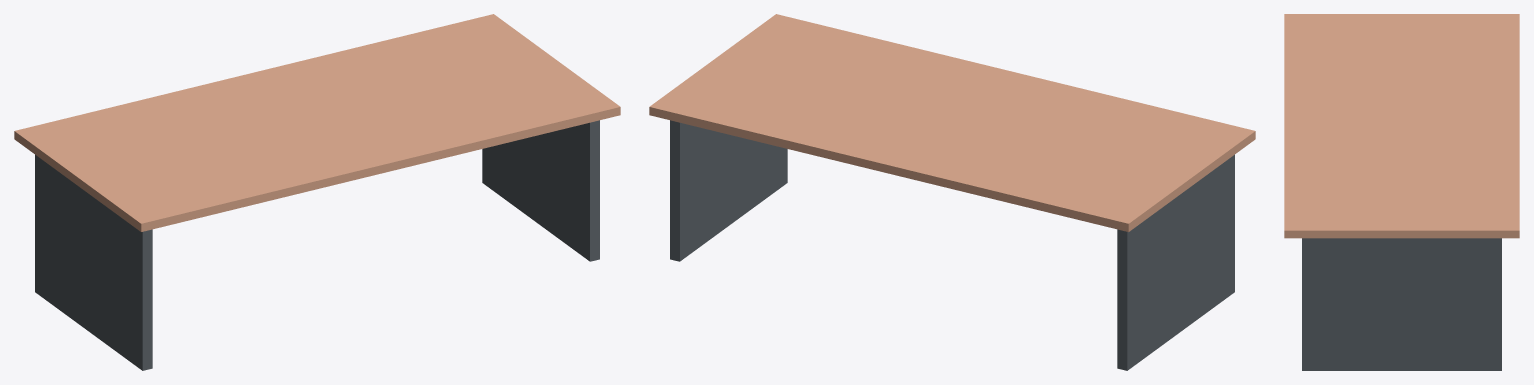
Rendered from meeting_rooms___private_spaces_catalog_06.glb.
3 renders of one model, left to right at view 1: azimuth 30°, elevation 25°; view 2: azimuth 150°, elevation 25°; view 3: azimuth 270°, elevation 25°, orthographic. The views are drawn at different scales.
Parts seen in each view (by area): view 1: Cube; view 2: Cube; view 3: Cube.
Part boxes in pixels (<box>): Cube: <box>14,14,620,370</box>; Cube: <box>649,14,1255,370</box>; Cube: <box>1284,14,1519,370</box>.
Bounding box in the file's own units: 2.4 × 0.75 × 1.1.
